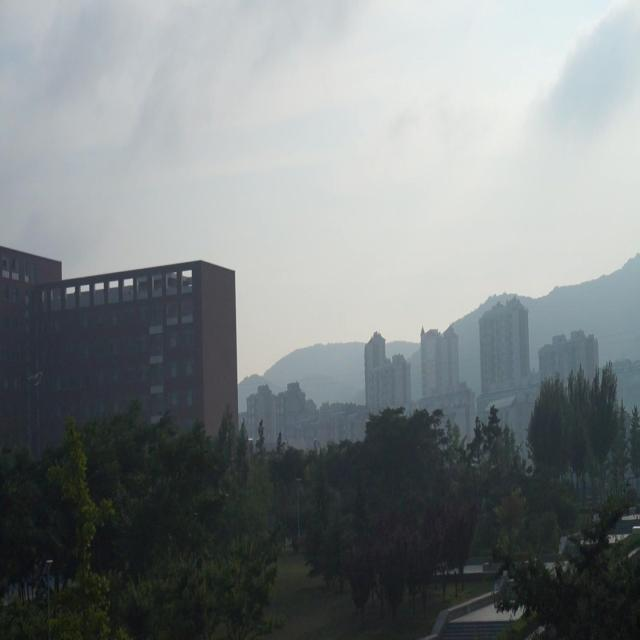drone: (28, 366, 44, 389)
